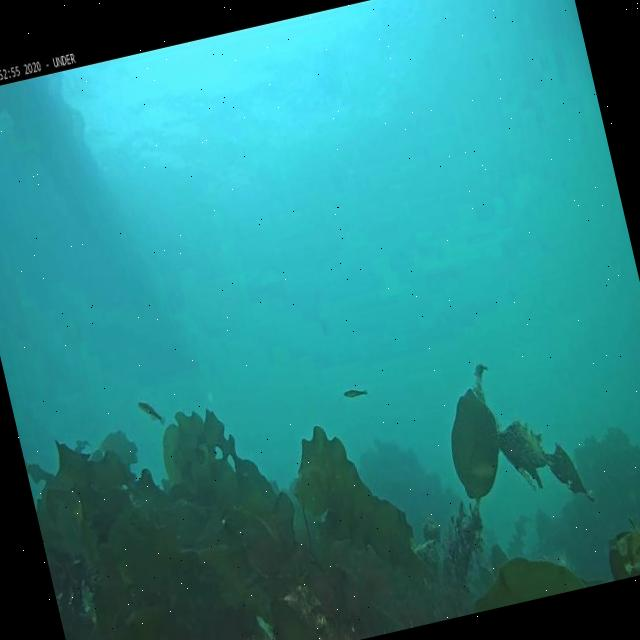fish: (136, 394, 164, 428), (342, 384, 368, 401)
